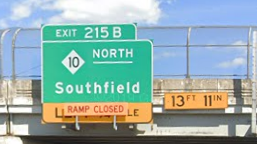1: (169, 94, 177, 107), (207, 94, 213, 108), (202, 95, 208, 107)
3: (176, 94, 186, 107)
overheadsign: (164, 92, 229, 109)
